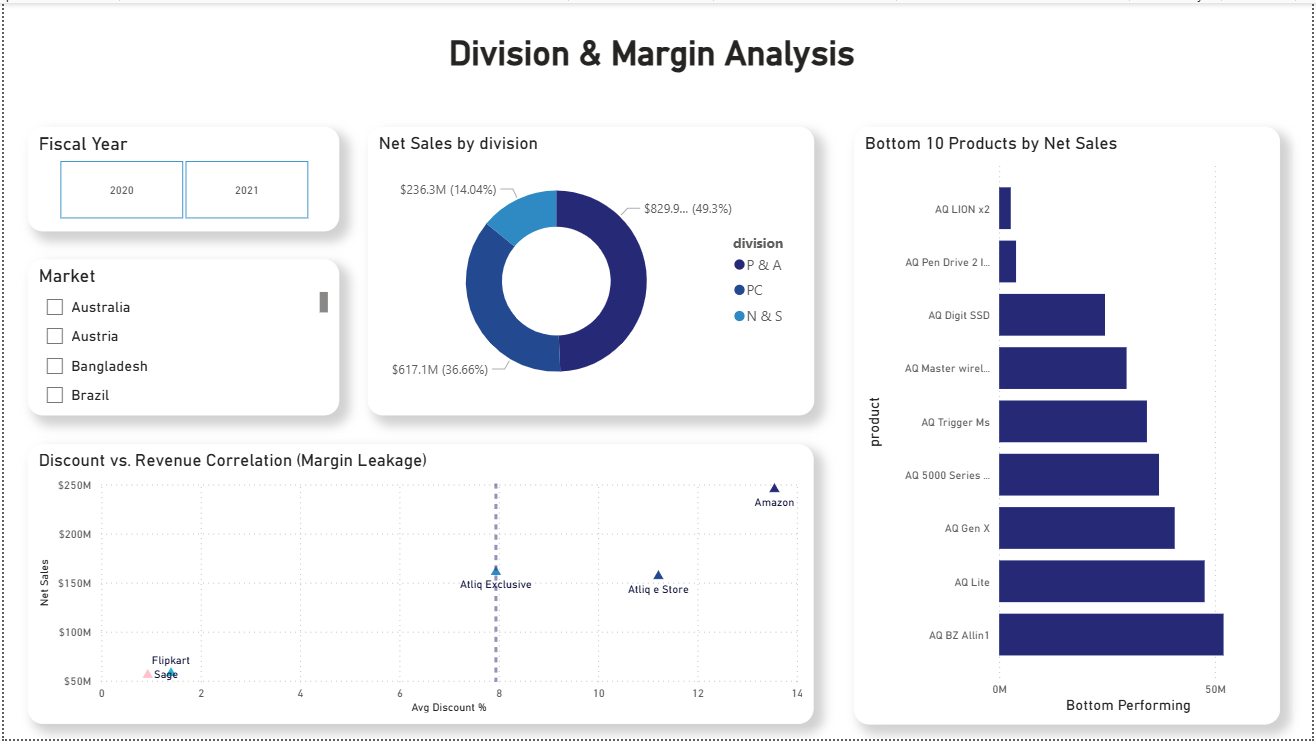

What the dashboard file says about the page in this screenshot:
{"tool":"powerbi","page":{"name":"Performer","canvas":[1280,720],"ordinal":1},"visuals":[{"type":"textbox","box":[430.4,24.5,417,50.1],"z":1000},{"type":"scatterChart","title":"Discount vs. Revenue Correlation (Margin Leakage)","fields":{"Category":["gdb023 dim_customer.customer"],"X":["Sum(gdb023 fact_pre_invoice_deductions.Avg Discount)"],"Series":["gdb023 dim_customer.customer"],"Y":["Measures (2).Net Sales"]},"box":[23.2,431.7,769.2,273.9],"z":2000},{"type":"slicer","title":"Fiscal Year","fields":{"Values":["gdb023 fact_sales_monthly.fiscal_year"]},"box":[23.2,121.1,304.5,102.7],"z":7000},{"type":"slicer","title":"Market","fields":{"Values":["gdb023 dim_customer.market"]},"box":[23.2,250.7,304.5,152.9],"z":8000},{"type":"barChart","title":"Bottom 10 Products by Net Sales","fields":{"Category":["gdb023 dim_product.product"],"Y":["Measures (2).Bottom Performing"]},"box":[831.5,121.1,417,584.5],"z":9000},{"type":"donutChart","fields":{"Category":["gdb023 dim_product.division"],"Y":["Measures (2).Net Sales"]},"box":[355.8,121.1,436.6,282.5],"z":10000}]}

Visuals, with their boxes in screenshot pixels (x1, y1, x2, y2), scaled from the page's 1280x720 canvas onto the 1316x741 screenshot:
textbox: bbox=(443, 25, 871, 77)
"Discount vs. Revenue Correlation (Margin Leakage)" scatterChart: bbox=(24, 444, 815, 726)
"Fiscal Year" slicer: bbox=(24, 125, 337, 230)
"Market" slicer: bbox=(24, 258, 337, 415)
"Bottom 10 Products by Net Sales" barChart: bbox=(855, 125, 1284, 726)
donutChart - gdb023 dim_product.division x Measures (2).Net Sales: bbox=(366, 125, 815, 415)
